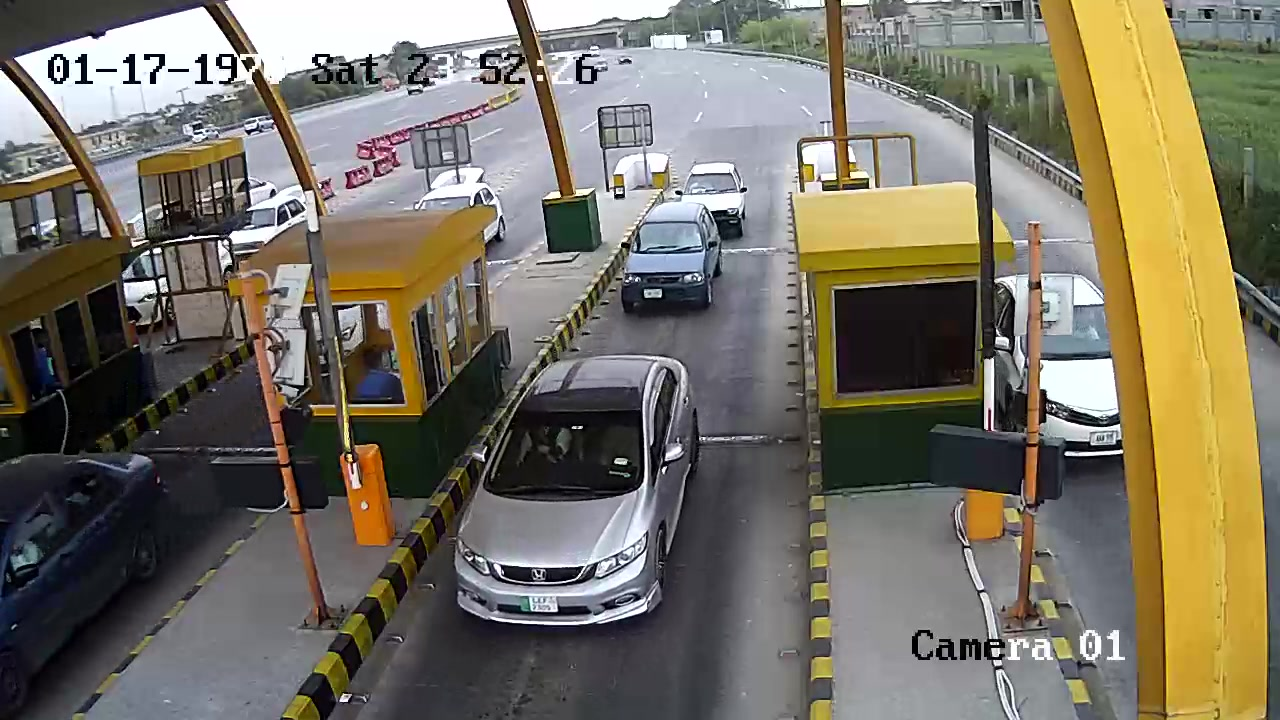F1: (447, 349, 717, 636)
